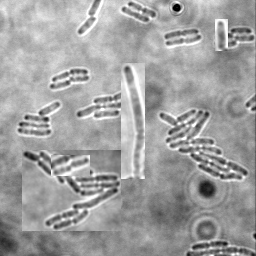Dividing: (121, 63, 145, 179), (51, 155, 90, 176), (52, 67, 89, 81), (128, 1, 157, 18), (166, 34, 202, 47), (215, 19, 228, 51), (164, 28, 200, 39), (192, 239, 229, 249)
Microcolony: (22, 150, 121, 231), (158, 109, 249, 180), (18, 101, 61, 136), (76, 88, 121, 119), (214, 27, 255, 48)
Rod: (121, 5, 150, 23), (78, 16, 99, 34), (50, 79, 72, 89), (69, 73, 90, 82)
